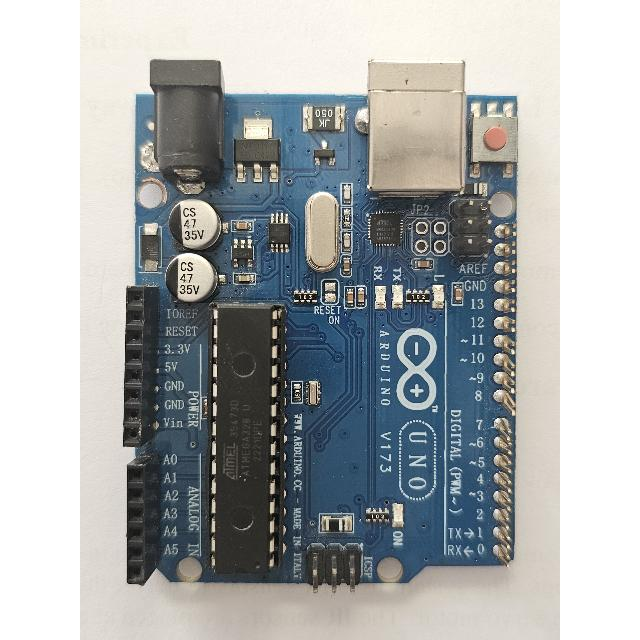missing_digital_pins: (488, 221, 520, 572)
